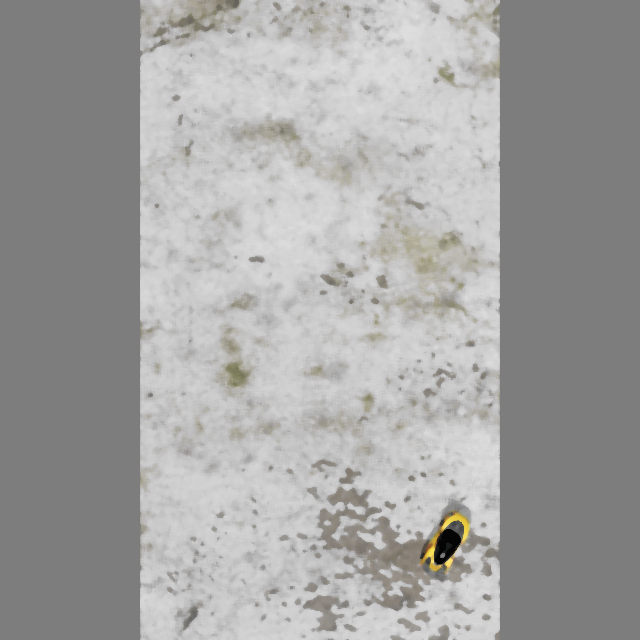car: (414, 506, 477, 585)
